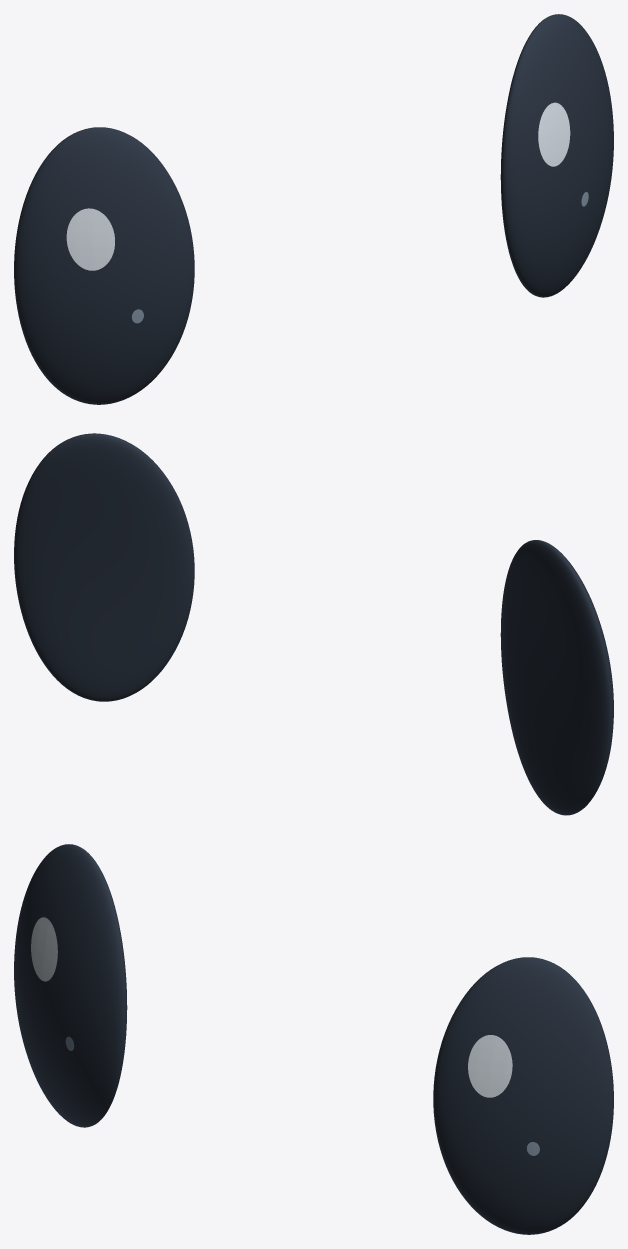
Rendered from feminine-eyes-original.glb.
The picture shows the model from 3 angles, top to bottom: view 1: azimuth 30°, elevation 25°; view 2: azimuth 150°, elevation 25°; view 3: azimuth 330°, elevation 25°; orthographic projection.
Parts seen in each view (by area): view 1: Eye / dark oval -1, Eye / dark oval 1, Eye highlight / main -1, Eye highlight / main 1; view 2: Eye / dark oval 1, Eye / dark oval -1; view 3: Eye / dark oval 1, Eye / dark oval -1, Eye highlight / main 1, Eye highlight / main -1.
Part boxes in pixels (left/top/right/bottom): Eye / dark oval -1: left=14, top=127, right=194, bottom=404; Eye / dark oval 1: left=500, top=14, right=613, bottom=297; Eye highlight / main -1: left=66, top=208, right=114, bottom=270; Eye highlight / main 1: left=538, top=102, right=570, bottom=166; Eye / dark oval 1: left=14, top=433, right=194, bottom=701; Eye / dark oval -1: left=500, top=540, right=613, bottom=815; Eye / dark oval 1: left=433, top=957, right=613, bottom=1234; Eye / dark oval -1: left=14, top=844, right=127, bottom=1127; Eye highlight / main 1: left=468, top=1035, right=512, bottom=1097; Eye highlight / main -1: left=31, top=917, right=57, bottom=981.
Size of the model in its own units: 0.3636 by 0.1582 by 0.0432.
